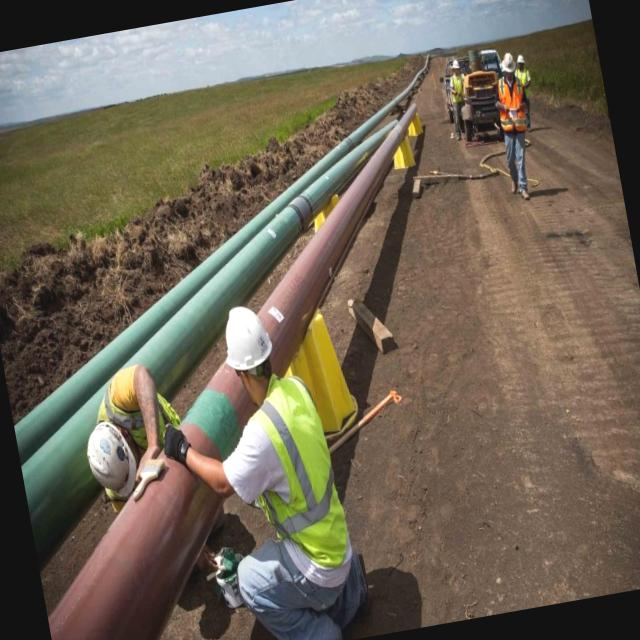helmet: (78, 416, 142, 504), (214, 294, 276, 375), (496, 44, 518, 78)
vest: (244, 375, 359, 578), (494, 72, 534, 138), (448, 70, 468, 106)
